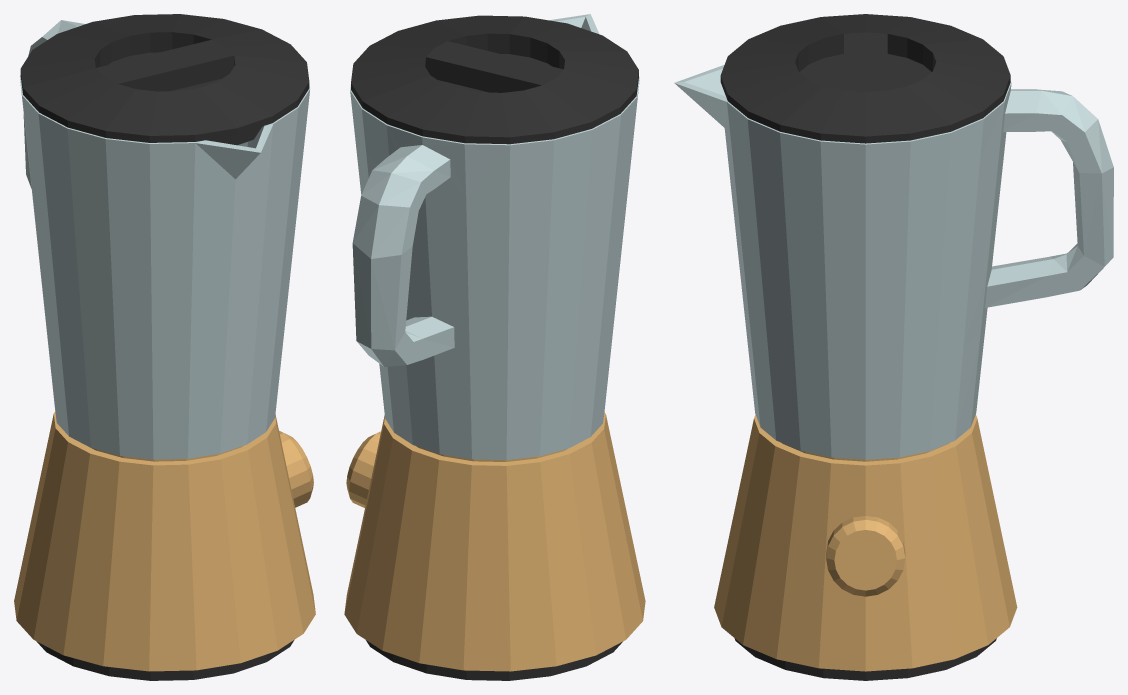
The picture shows the model from 3 angles, left to right: view 1: azimuth 30°, elevation 25°; view 2: azimuth 150°, elevation 25°; view 3: azimuth 270°, elevation 25°; orthographic projection.
Parts seen in each view (by area): view 1: Blender; view 2: Blender; view 3: Blender.
Part boxes in pixels (bbox=[...]): Blender: bbox=[14, 14, 315, 680]; Blender: bbox=[344, 14, 645, 680]; Blender: bbox=[674, 14, 1113, 680].
Bounding box in the file's own units: 36.68 × 73.15 × 51.97.
1 material, 1 textured.
